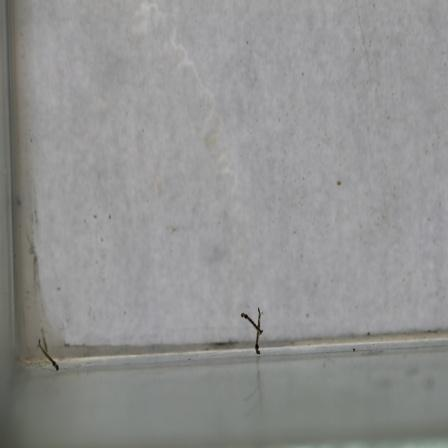Jentik-Nyamuk: (237, 302, 267, 357), (35, 337, 62, 372)
